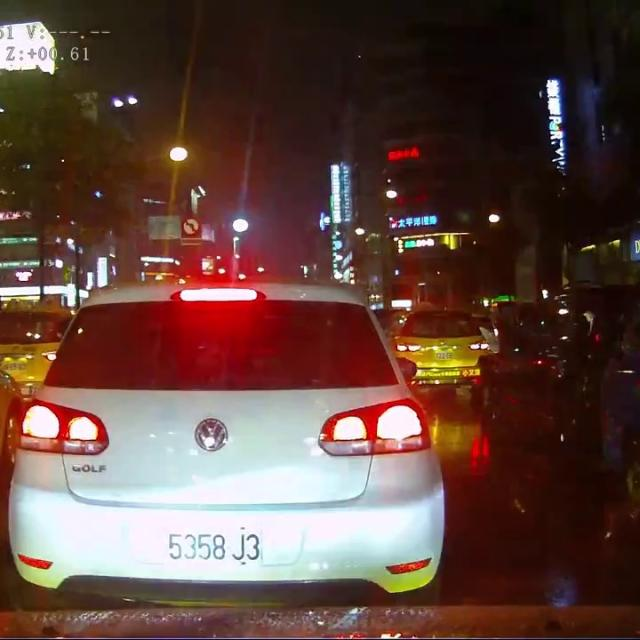Car: (0, 286, 437, 598), (468, 275, 639, 497), (377, 297, 492, 386), (0, 291, 77, 405)
